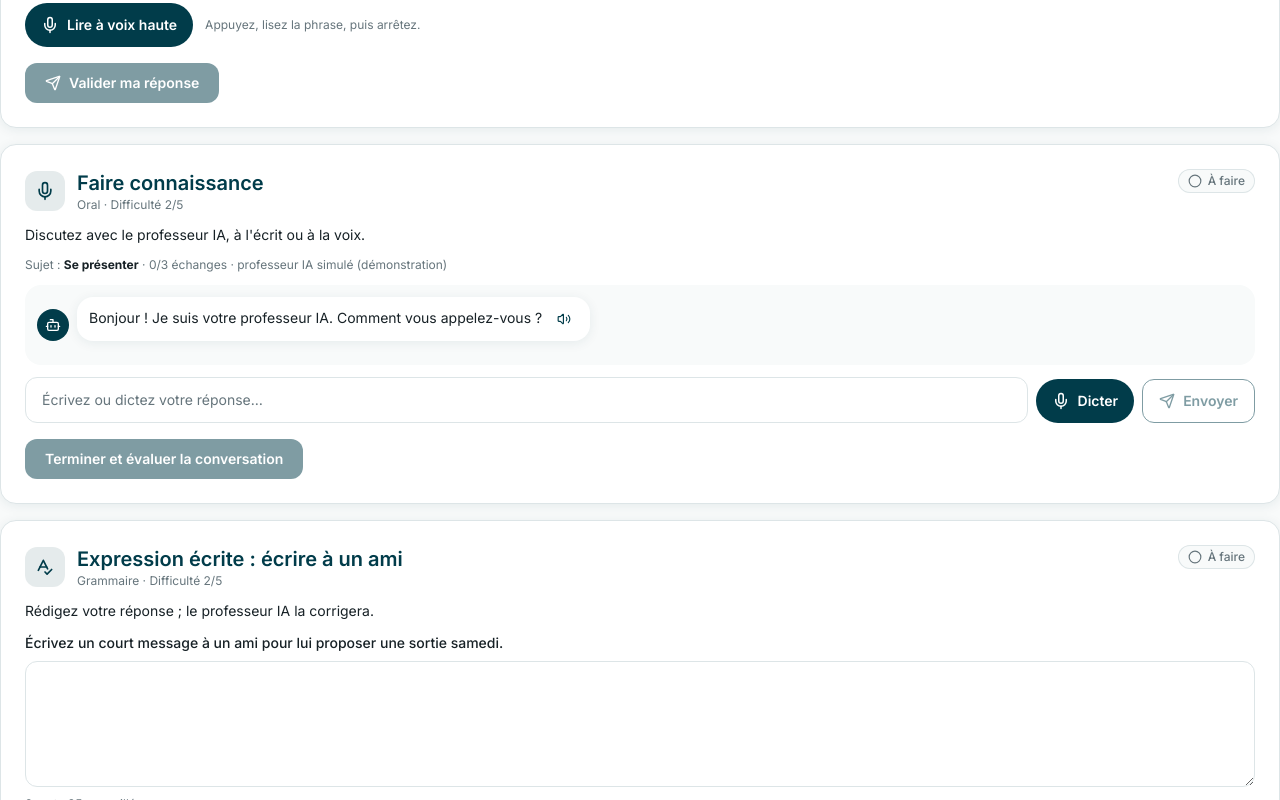
Test: Page d'une leçon › converse avec le professeur IA (écrit et dictée) puis fait évaluer l'échange
This screenshot has width=1280, height=800.
(page scrolled)
Expected: the element named "Conversation avec le professeur IA" shows "Comment vous appelez-vous ?", [89,309,542,326]
Expected: the button "Terminer et évaluer la conversation" is disabled, [25,439,303,479]
Type "Je m'appelle Rova" into the field named "Votre message". click: (526, 400)
box: [25,377,1028,423]
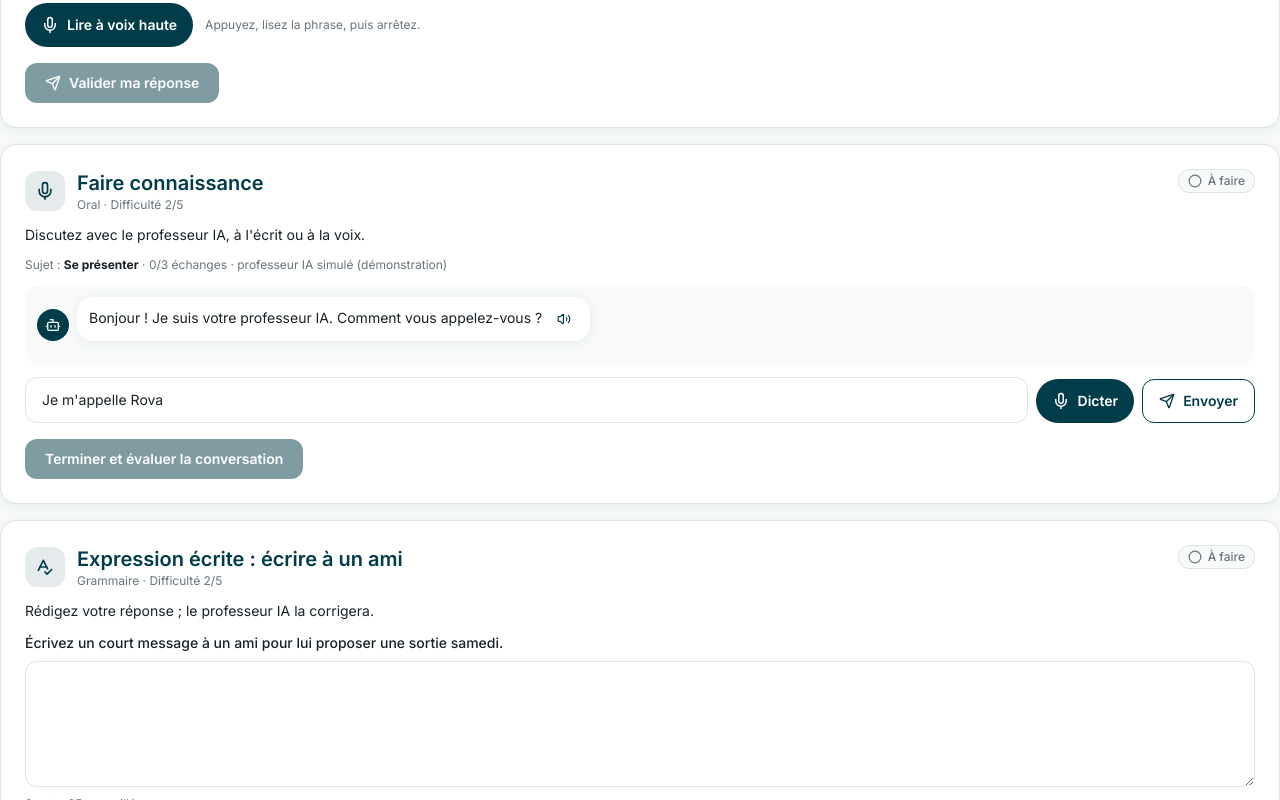
Click the button "Envoyer". click: (1199, 401)
box: [1142,379,1255,423]
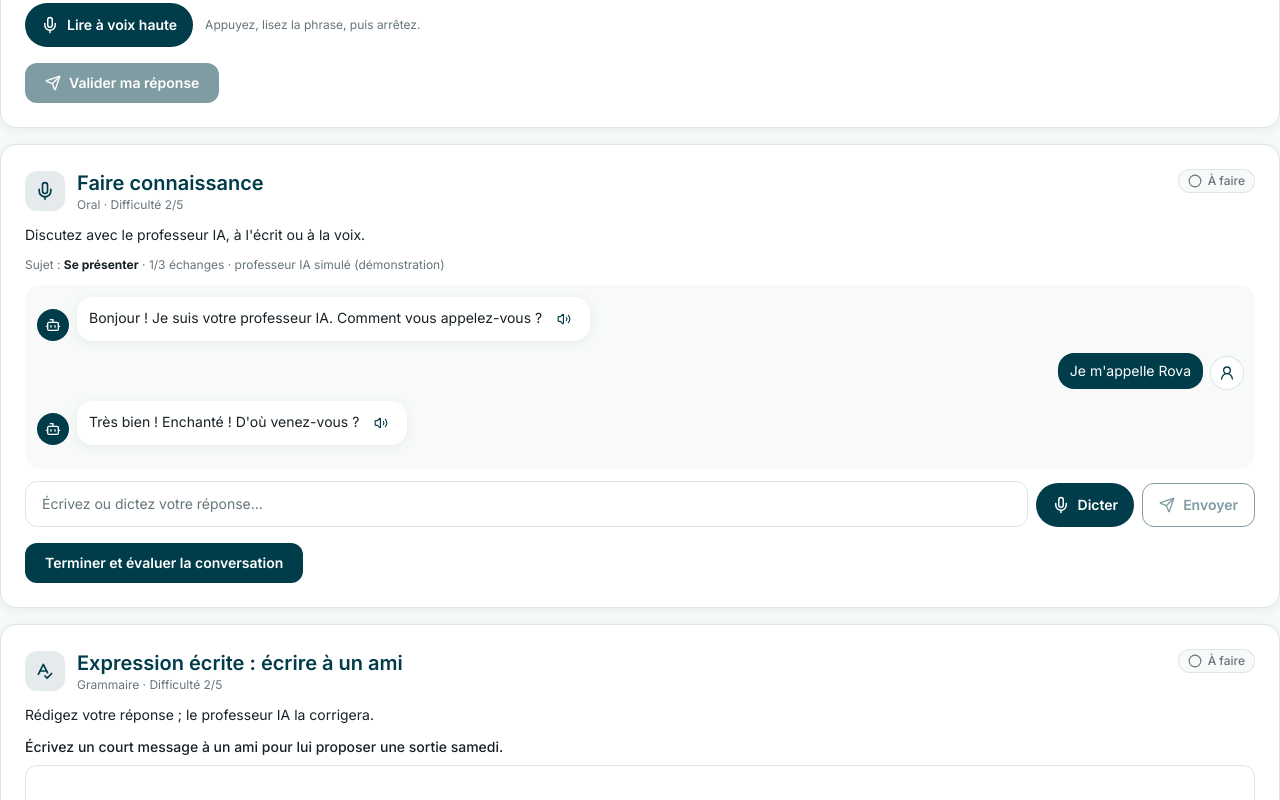
Result: the text "Très bien ! Enchanté ! D'où venez-vous ?" is shown at [89,413,359,430]
# Dictée : la reconnaissance vocale remplit la zone de saisie
Click the button "Dicter". click: (1085, 505)
box: [1036,483,1134,527]
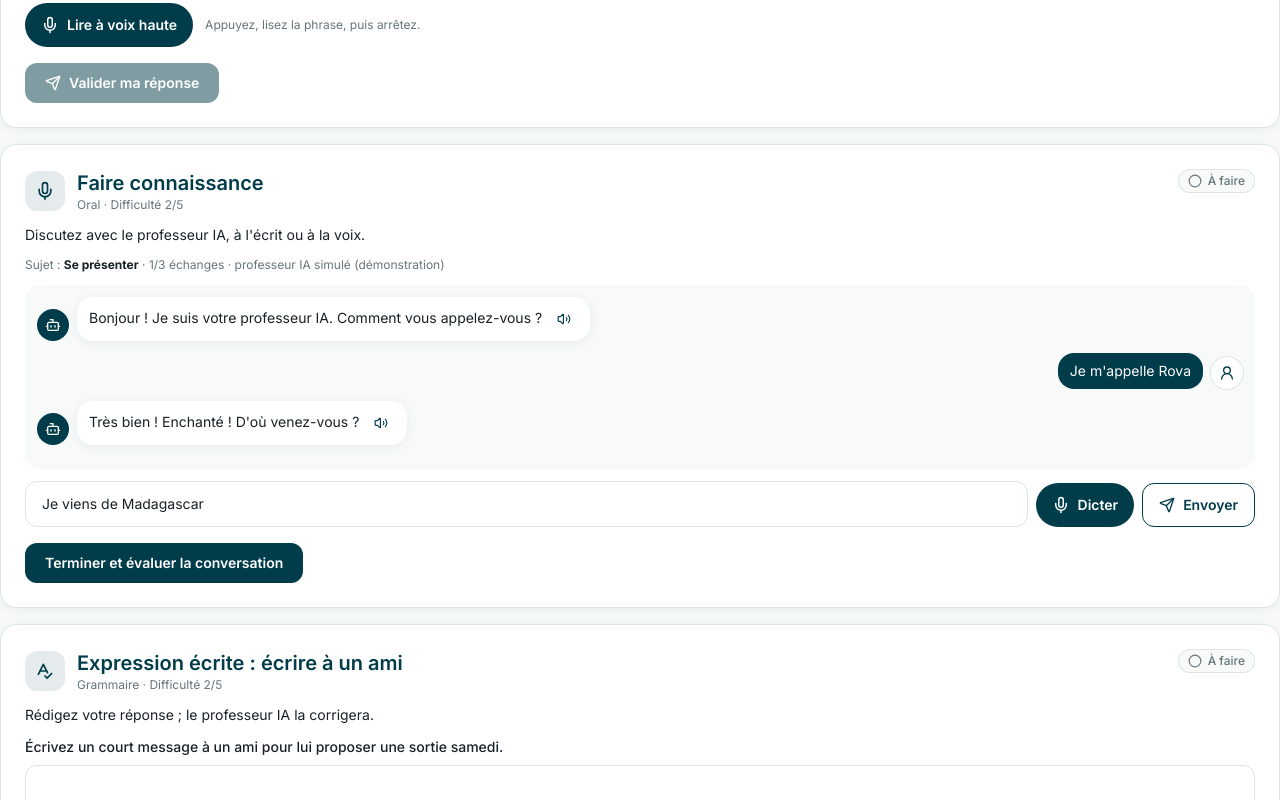
Result: the field named "Votre message" holds "Je viens de Madagascar" at [25,481,1028,527]
Click the button "Envoyer". click: (1199, 505)
box: [1142,483,1255,527]
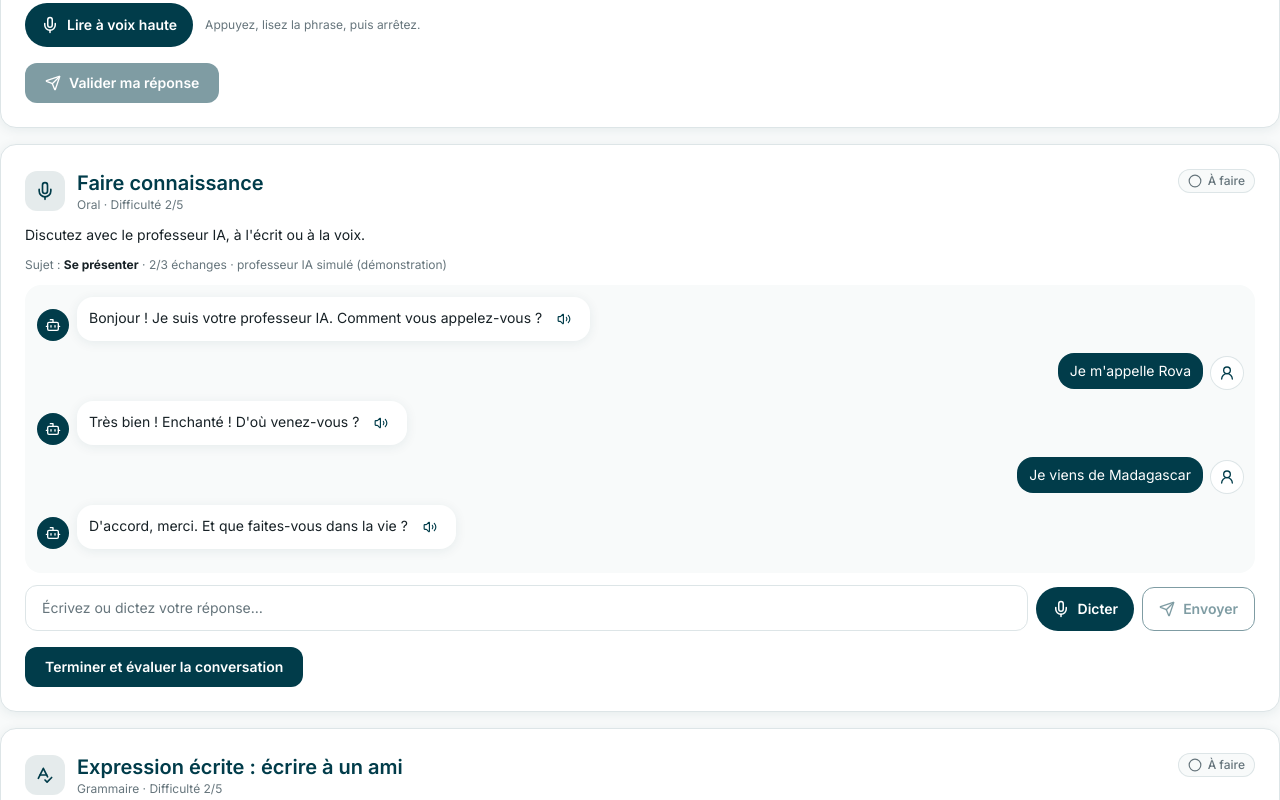
Result: the text "D'accord, merci. Et que faites-vous dans la vie ?" is shown at [89,517,408,534]
Click the button "Terminer et évaluer la conversation". click: (164, 667)
box: [25,647,303,687]
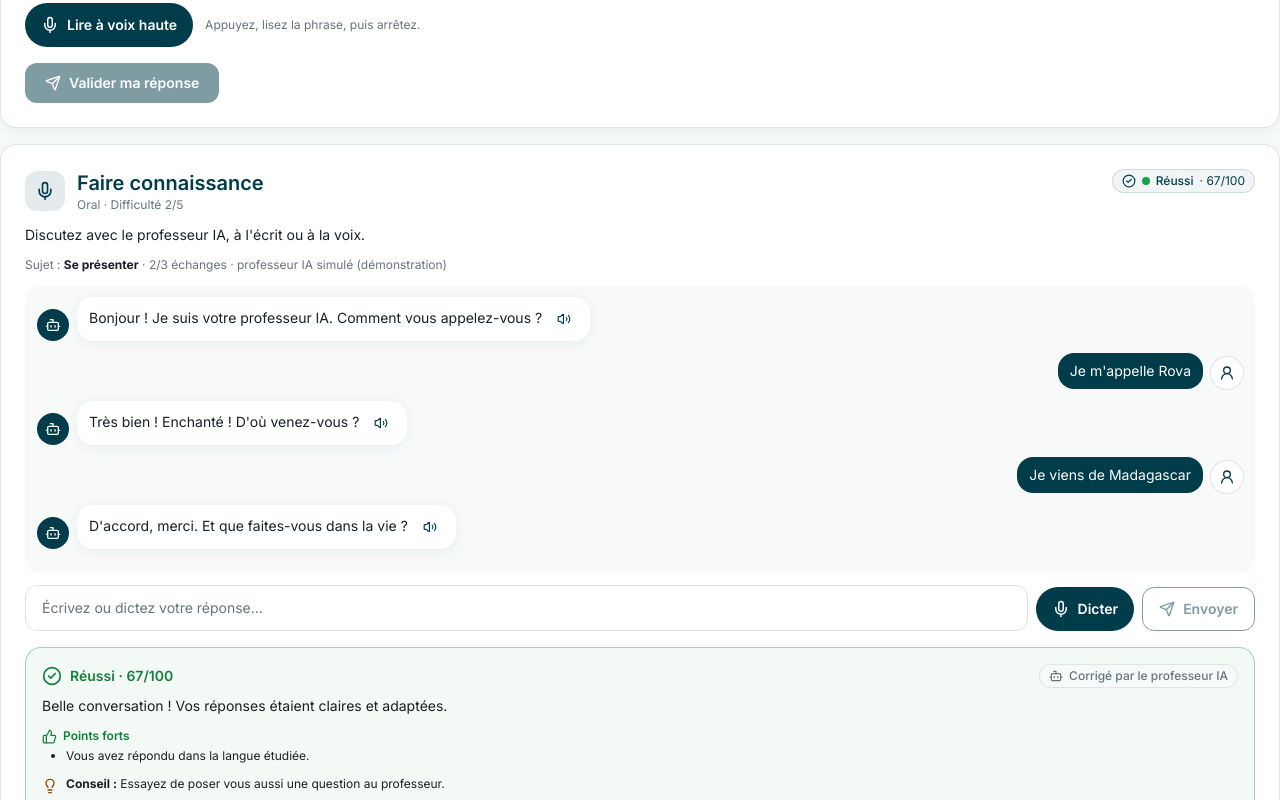
Result: the text "Belle conversation" is shown at [42,697,447,714]
